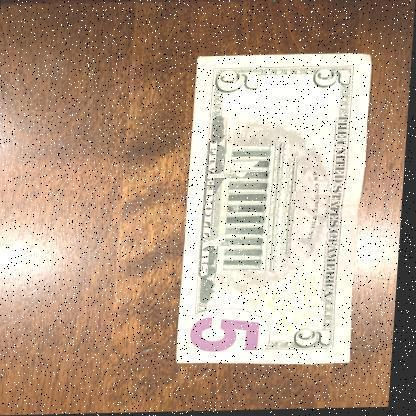five-back: (179, 53, 373, 368)
